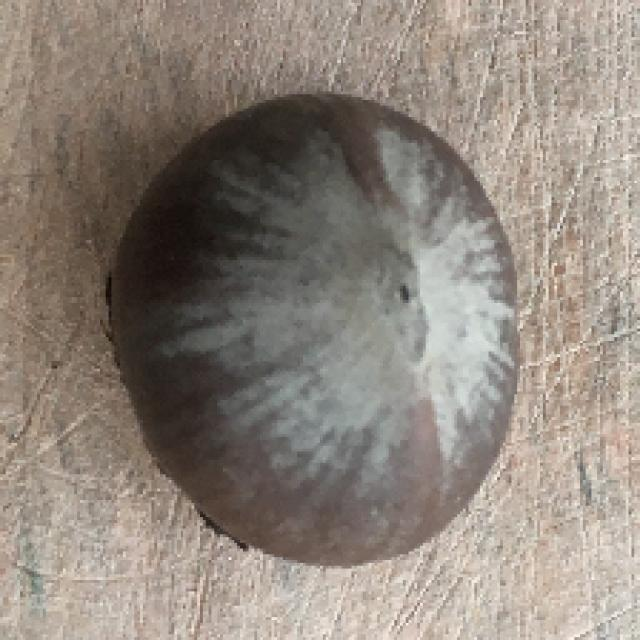damagedHazelnut: (114, 95, 521, 564)
